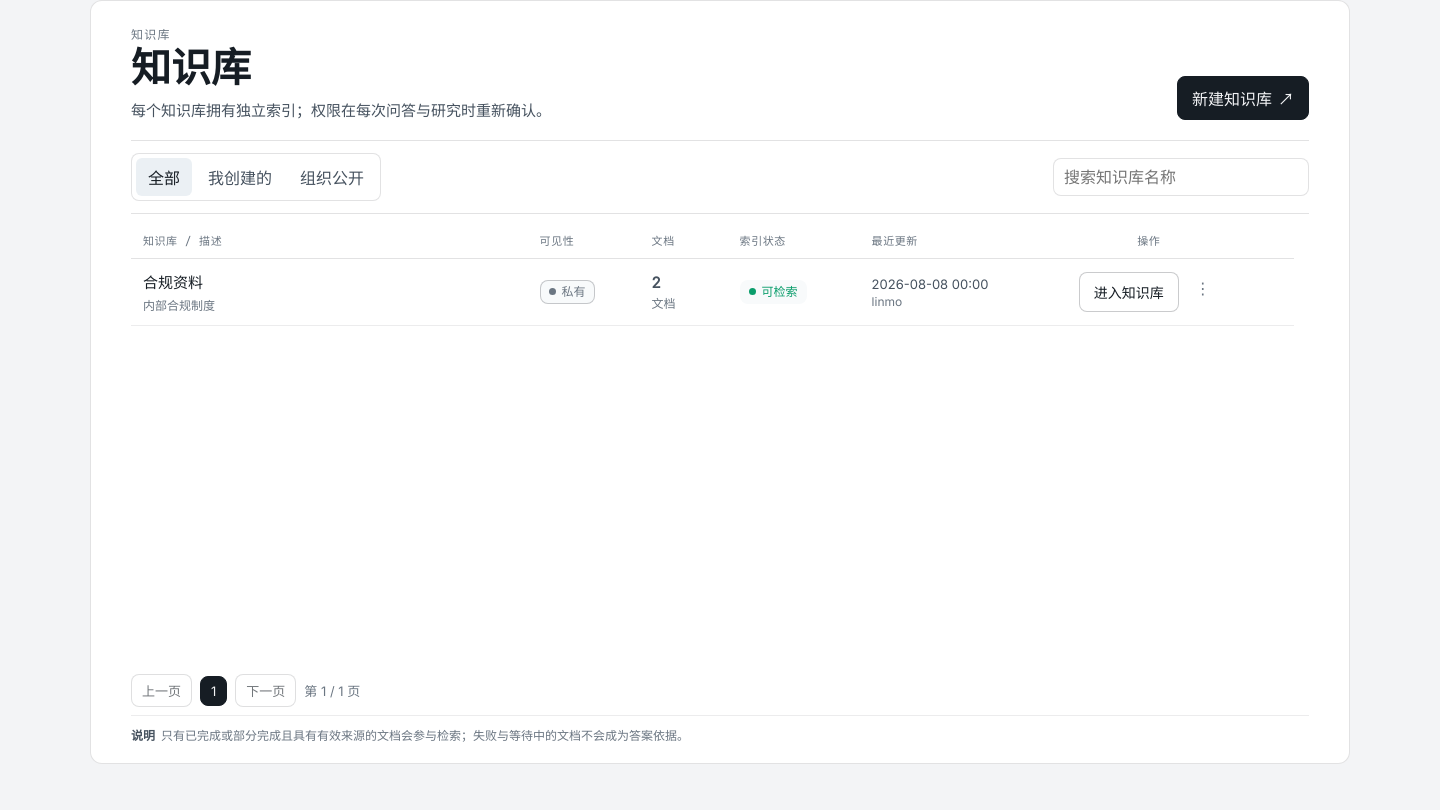
Scenario: 知识库列表页 › Owner 行操作列：进入知识库 + ⋮ 菜单（编辑/删除知识库）
The width and height of the screenshot is (1440, 810).
expect the text "合规资料" is shown: met, box [143,273,203,292]
expect the link "进入知识库" is shown: met, box [1079,272,1179,312]
Step 1. Click the button named "知识库操作 合规资料" → (1203, 288), box [1187,272,1219,304]
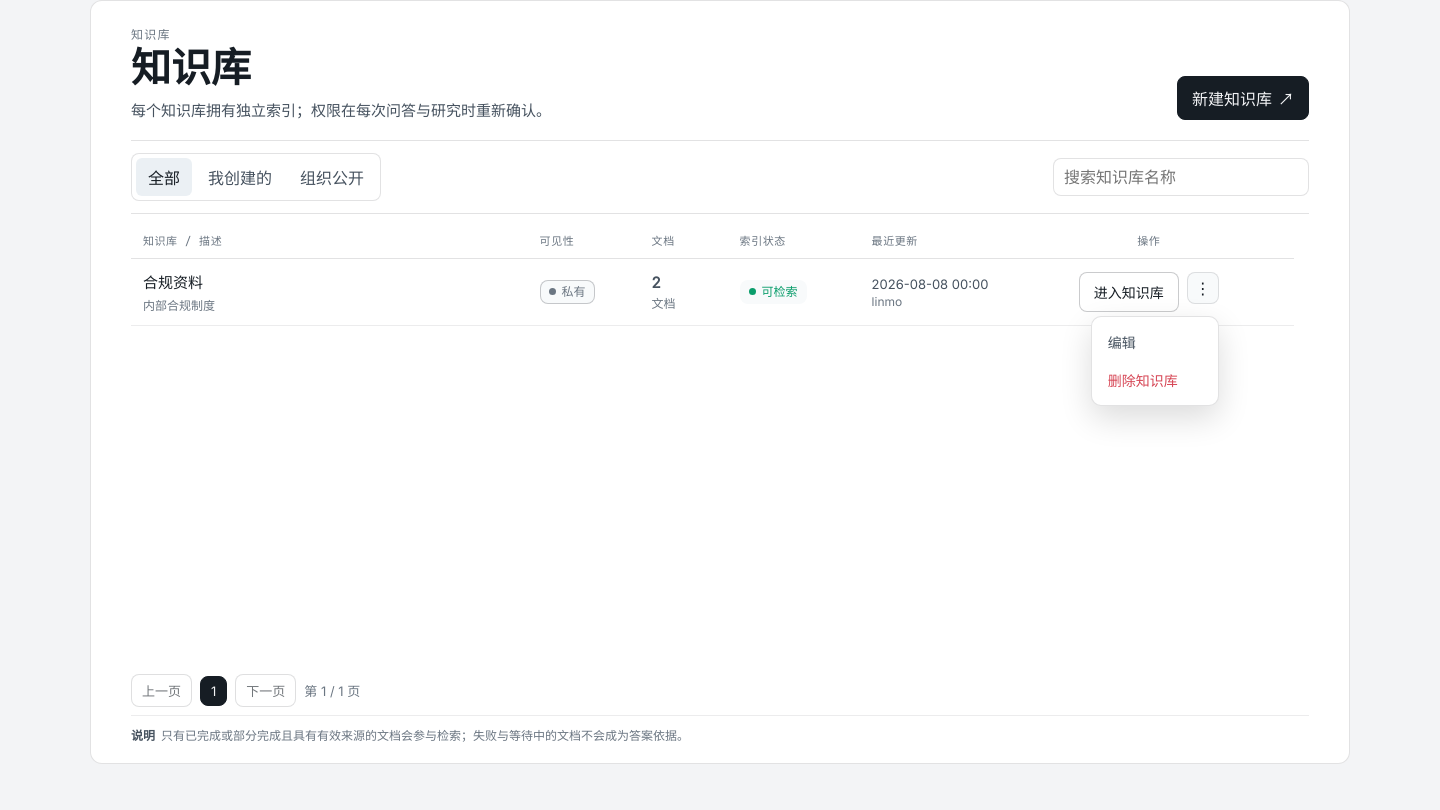
expect the menu item "编辑" is shown: met, box [1098,323,1212,361]
expect the menu item "删除知识库" is shown: met, box [1098,361,1212,399]
